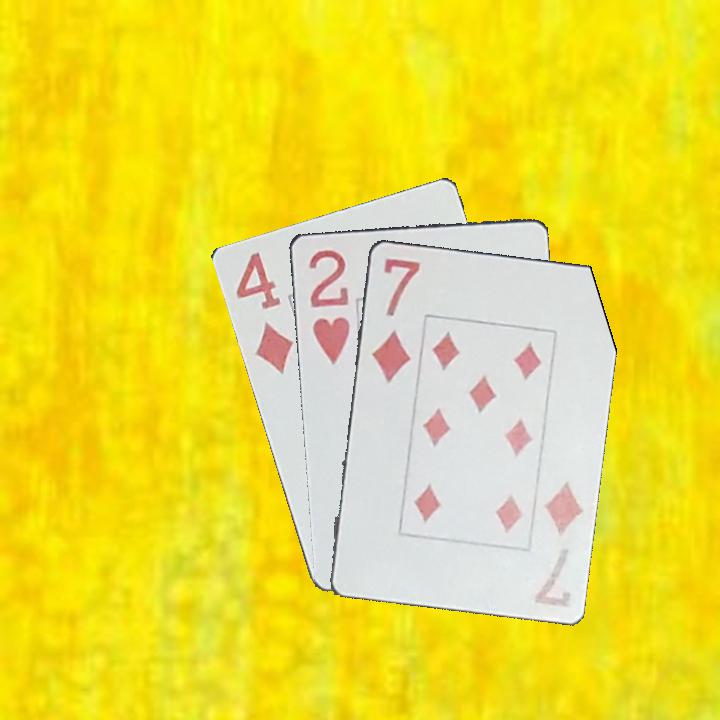2h: (304, 245, 353, 367)
4d: (231, 248, 297, 377)
7d: (530, 476, 586, 610), (368, 254, 423, 386)
